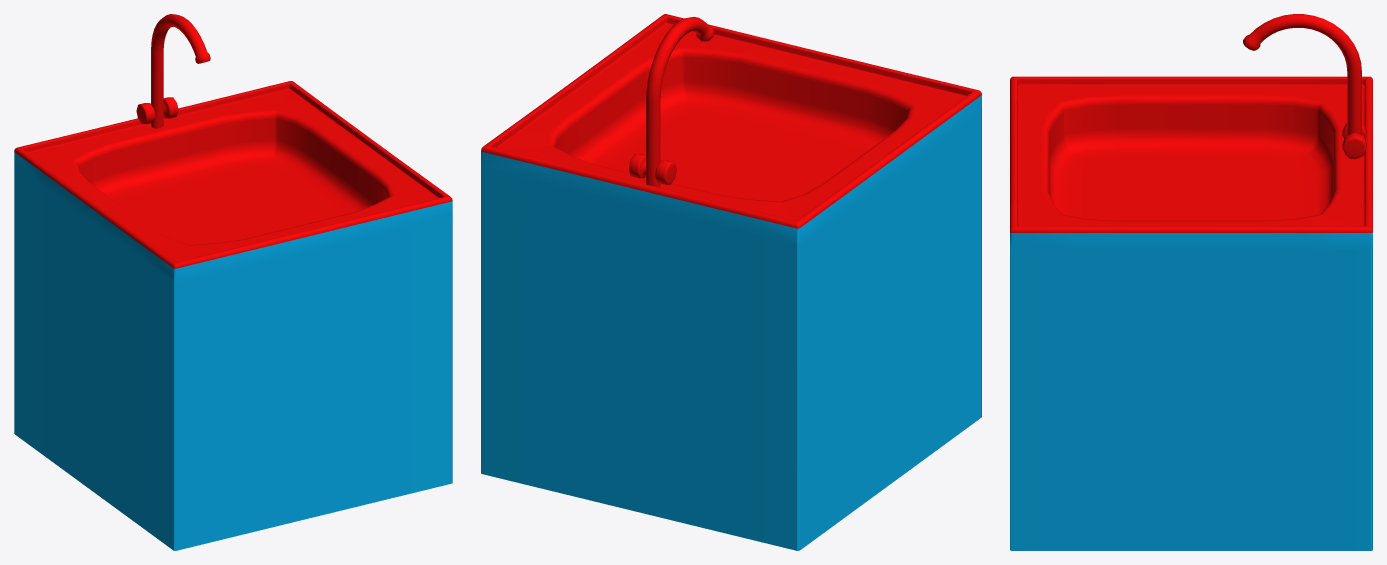
File: Sink_Model.FBX
The picture shows the model from 3 angles, left to right: view 1: azimuth 30°, elevation 25°; view 2: azimuth 150°, elevation 25°; view 3: azimuth 270°, elevation 25°; orthographic projection. The views are drawn at different scales.
Parts seen in each view (by area): view 1: Sink_Model; view 2: Sink_Model; view 3: Sink_Model.
Boxes of the visible parts, <box> form: Sink_Model: <box>14,14,452,550</box>; Sink_Model: <box>481,14,981,550</box>; Sink_Model: <box>1010,14,1372,550</box>.
Size of the model in its own units: 104 by 145 by 104.
